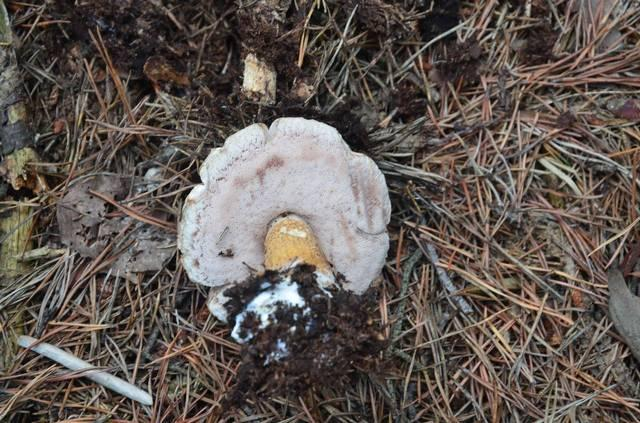poisonous_mushroom: (176, 114, 393, 386)
